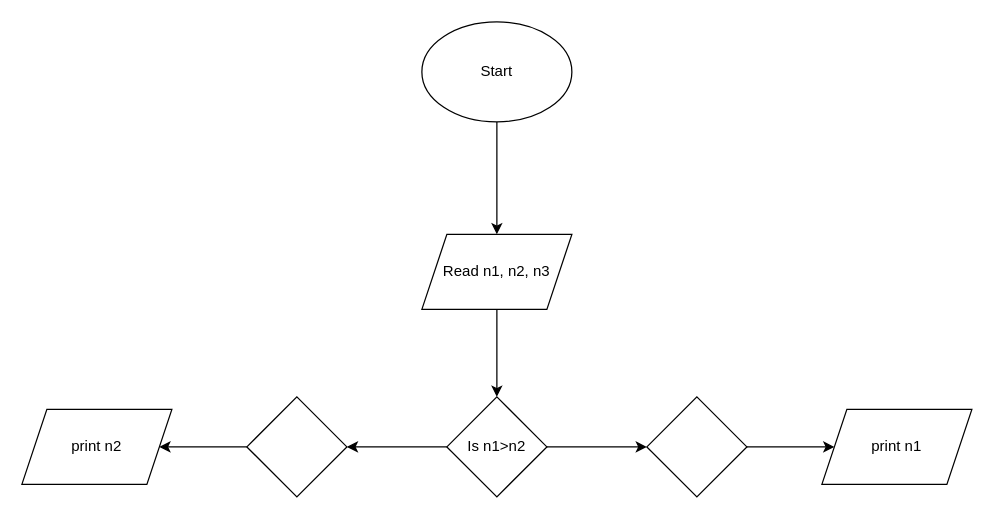
Image size: 994x519. Some labels were removed from this diagram. Here are the shapes that lost their labels. From the top down, the centre of each, then its label:
(x=296, y=446): Is n2>n3
(x=696, y=446): is n1>n3
